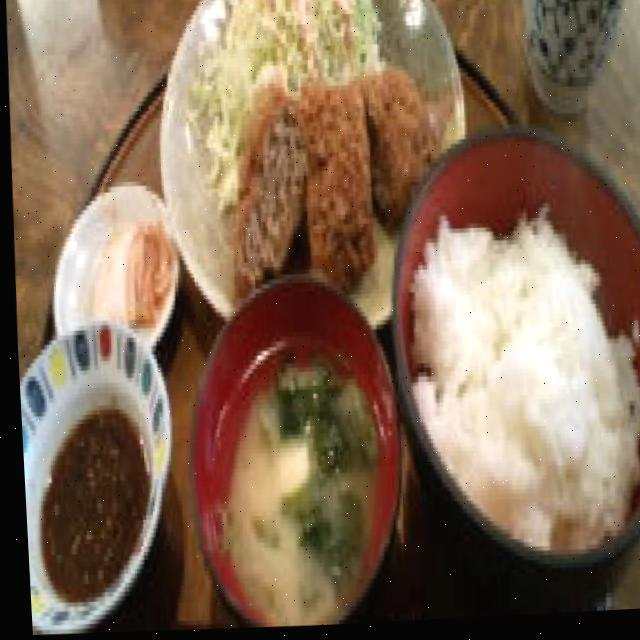汤锅炖物: (140, 239, 419, 635)
米饭主食: (366, 134, 640, 608)
